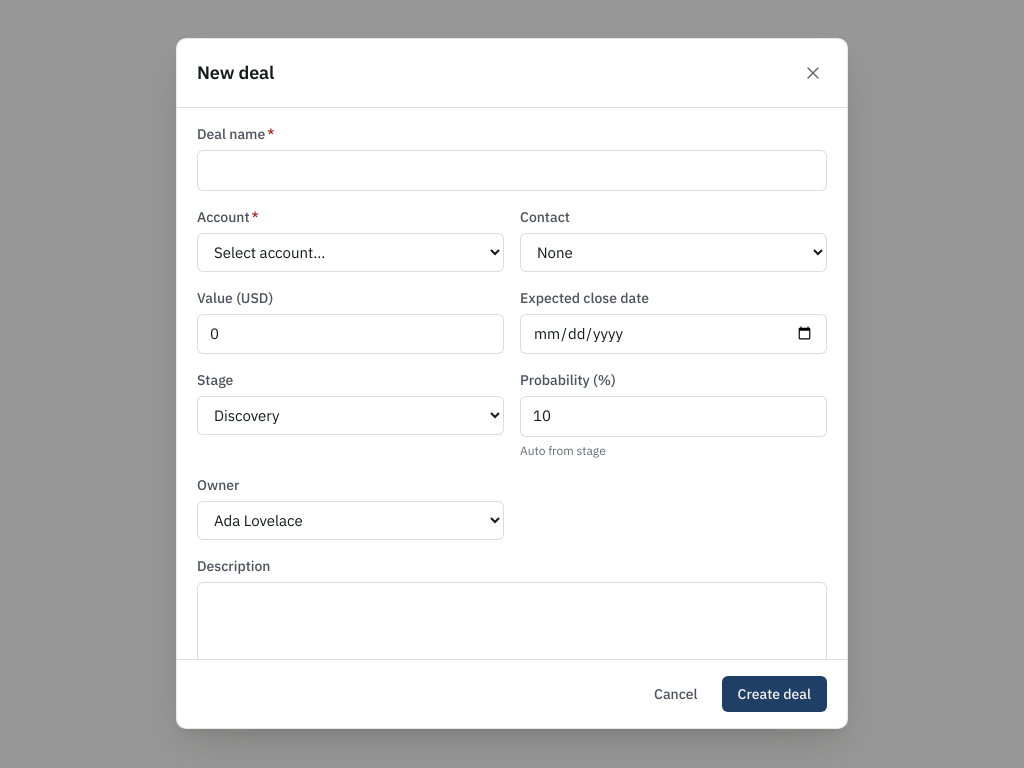
Test: OpportunityFormModal › validation › focuses the account once the name is filled in
Expected: the dialog is shown, [176,38,848,730]
In the field labelled "Deal name*": (512,171) [197,150,827,191], type "New logo"
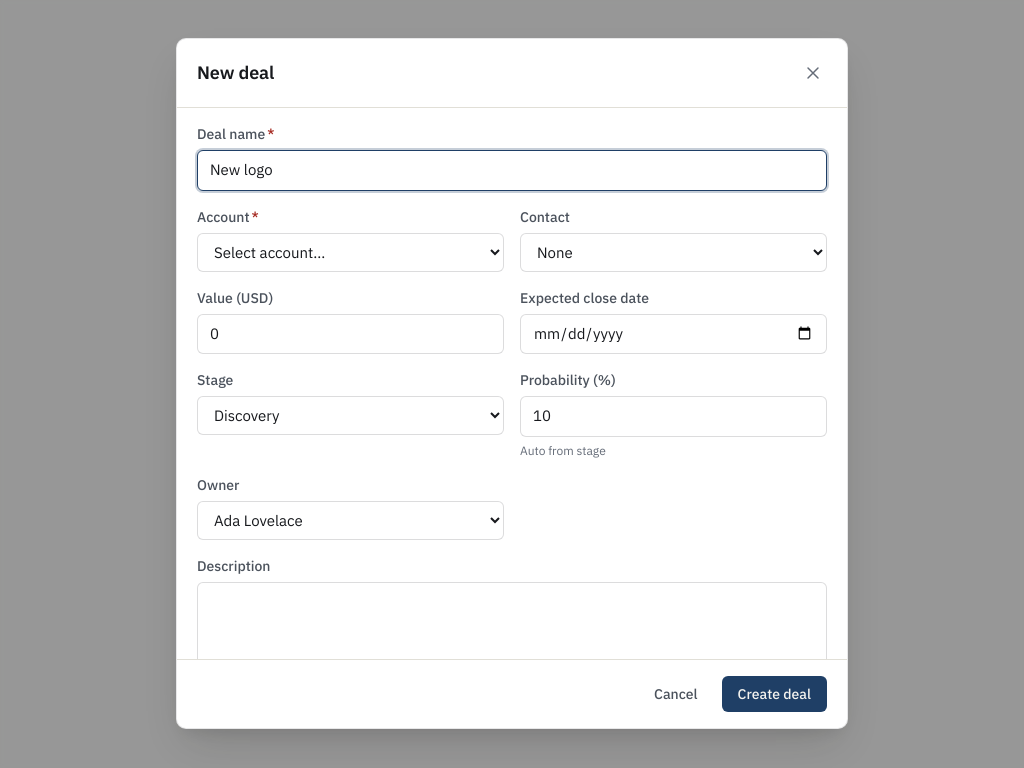
Click the button "Create deal": (774,695) [722,677,827,713]
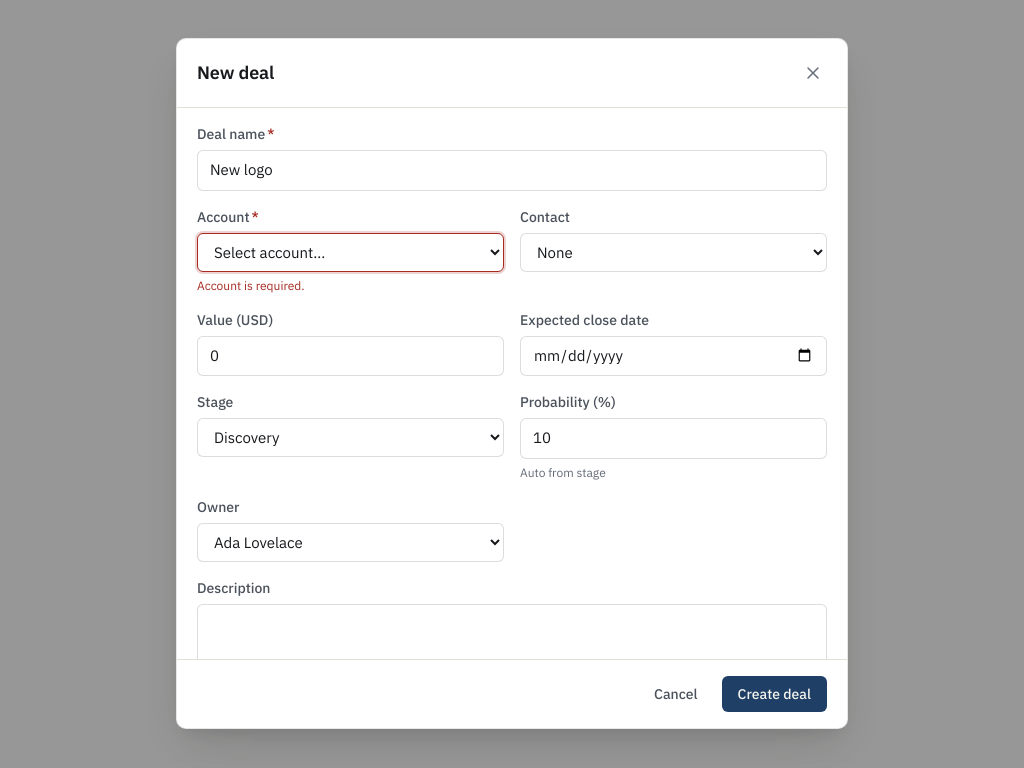
Now the text "Account is required." is shown, box [197,278,305,293]
